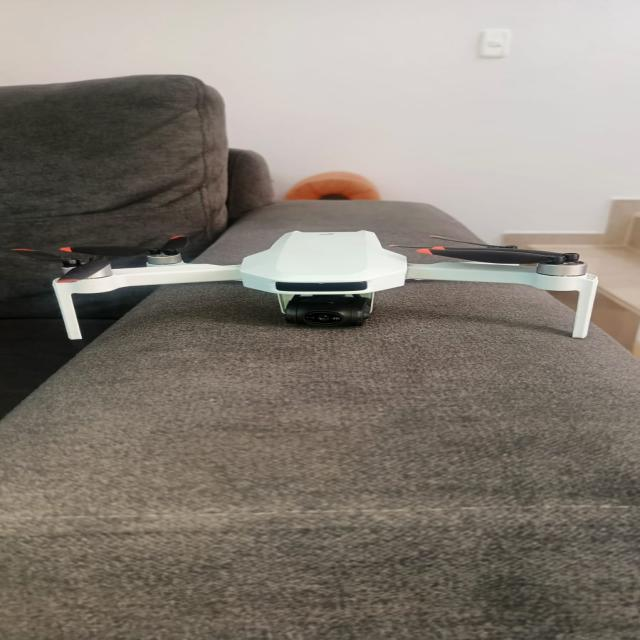dron: (26, 208, 626, 362)
